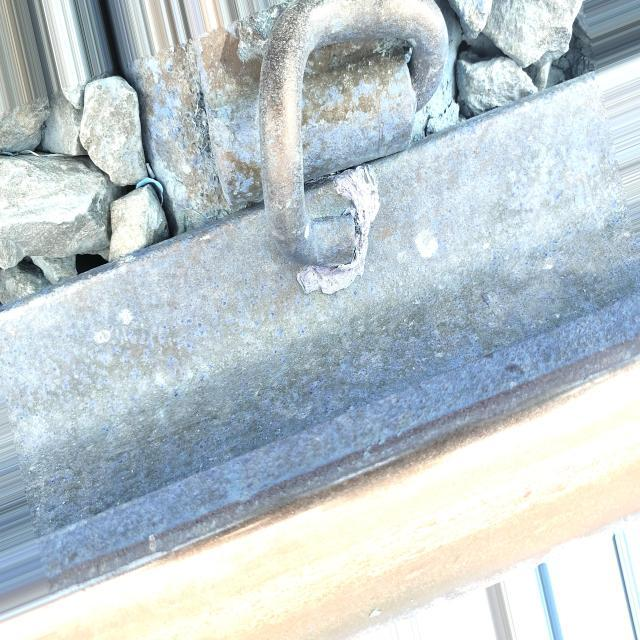Good Fasteners: (120, 0, 509, 394)
